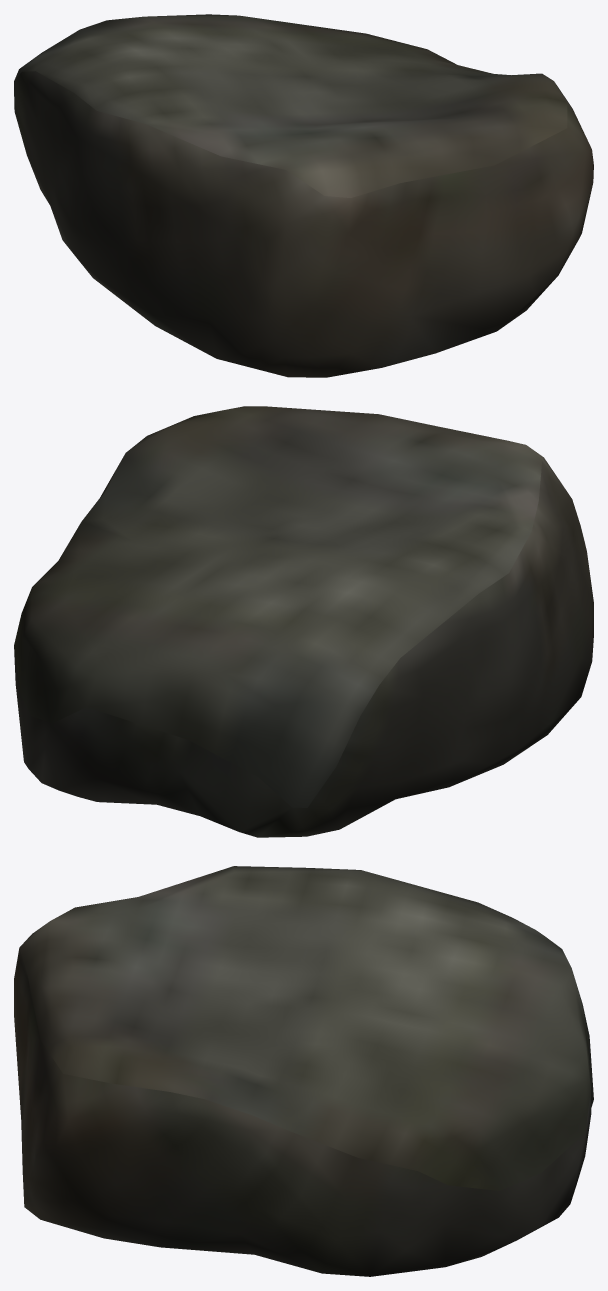
The picture shows the model from 3 angles, top to bottom: view 1: azimuth 30°, elevation 25°; view 2: azimuth 150°, elevation 25°; view 3: azimuth 270°, elevation 25°; orthographic projection. The views are drawn at different scales.
Visible parts, largest first — view 1: smallrock1; view 2: smallrock1; view 3: smallrock1.
Boxes of the visible parts, box(x1,y1,x2,y2) form: smallrock1: box(14, 14, 593, 377); smallrock1: box(14, 406, 593, 837); smallrock1: box(14, 866, 593, 1276).
Size of the model in its own units: 1.82 by 0.9126 by 2.06.
1 material, 1 textured.
